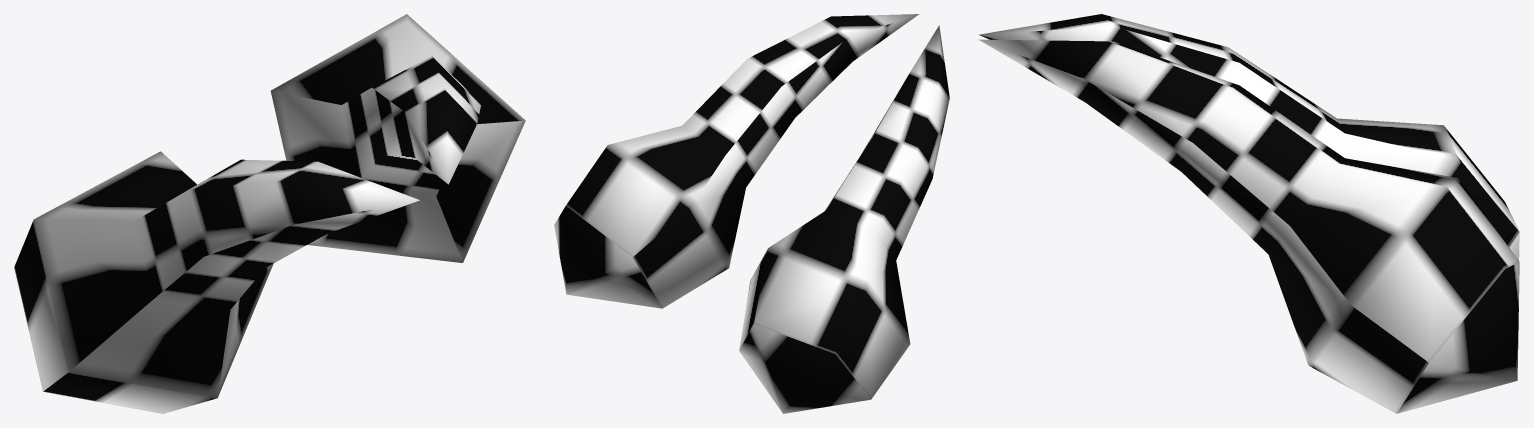
Rendered from initlitr20.dae.
The picture shows the model from 3 angles, left to right: view 1: azimuth 30°, elevation 25°; view 2: azimuth 150°, elevation 25°; view 3: azimuth 270°, elevation 25°; orthographic projection. The views are drawn at different scales.
Parts seen in each view (by area): view 1: item; view 2: item; view 3: item.
Part boxes in pixels (left/top/right/bottom): item: left=14, top=14, right=525, bottom=413; item: left=554, top=14, right=949, bottom=413; item: left=979, top=14, right=1519, bottom=413.
Bounding box in the file's own units: 1.38 × 1.45 × 1.13.
1 material, 1 textured.
